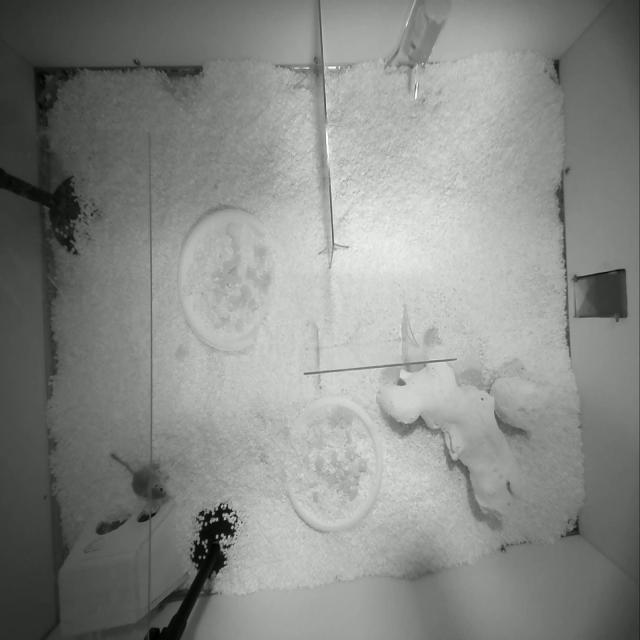pup_fluffy: (112, 453, 168, 502)
